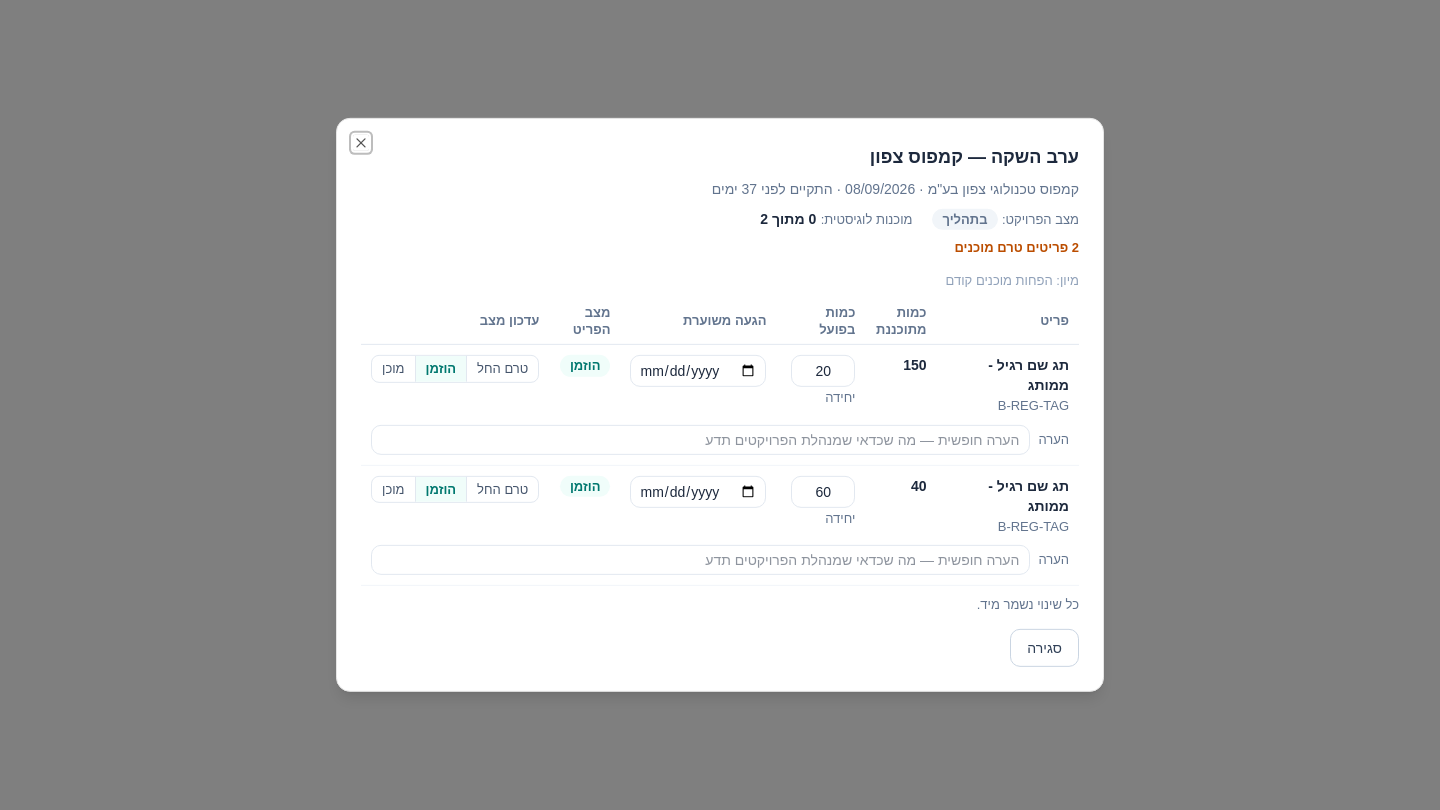
Scenario: ChecklistDialog — ③ שתי שורות של אותו מק"ט › כשל-כתיבה בשורה אחת מוצג תחתיה בלבד — ולא תחת אחותה בעלת אותו מק"ט
Replace the text in the field with test id "checklist-qty-B-REG-TAG-2" with "90": (823, 492) [791, 476, 855, 508]
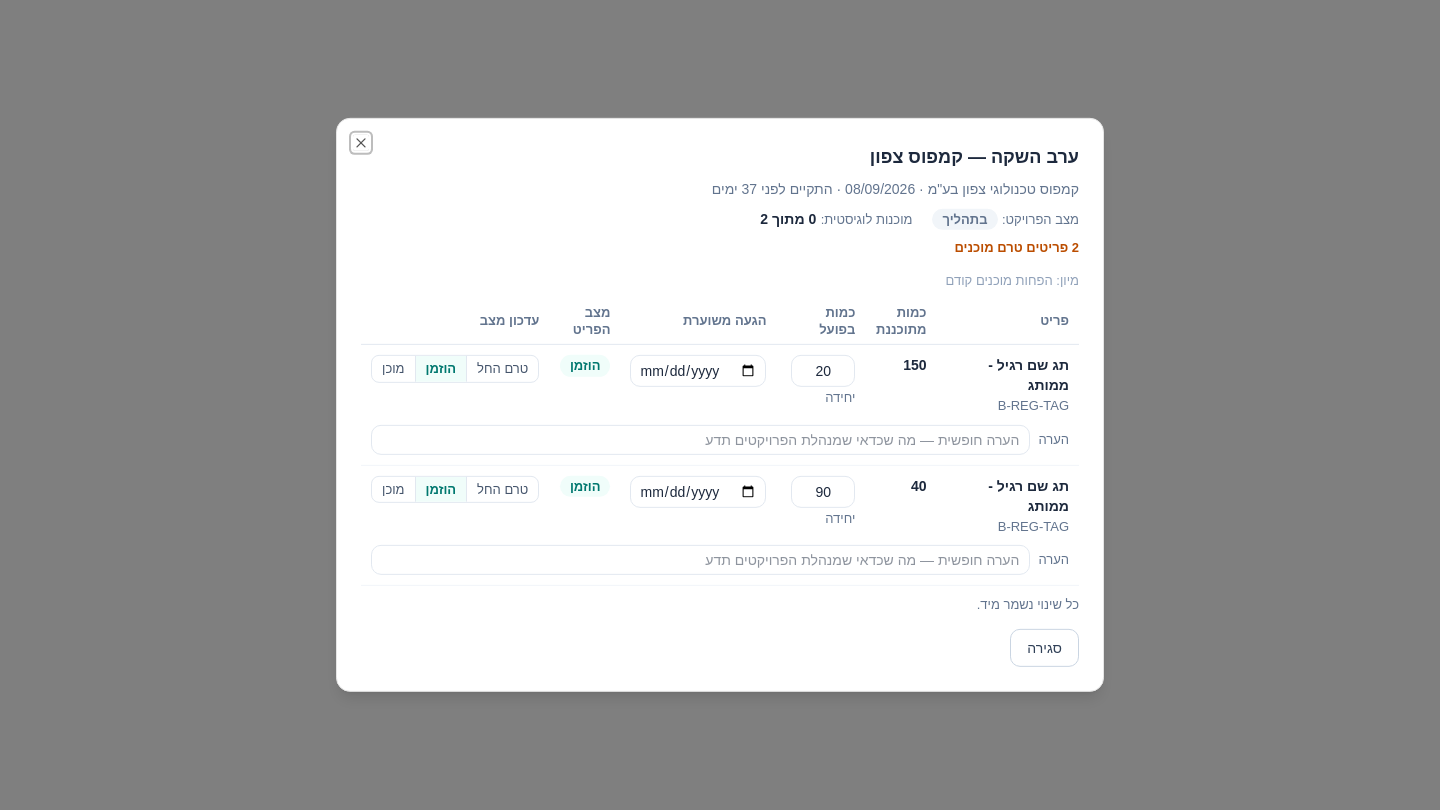
Leave the field with test id "checklist-qty-B-REG-TAG-2", box [791, 476, 855, 508]
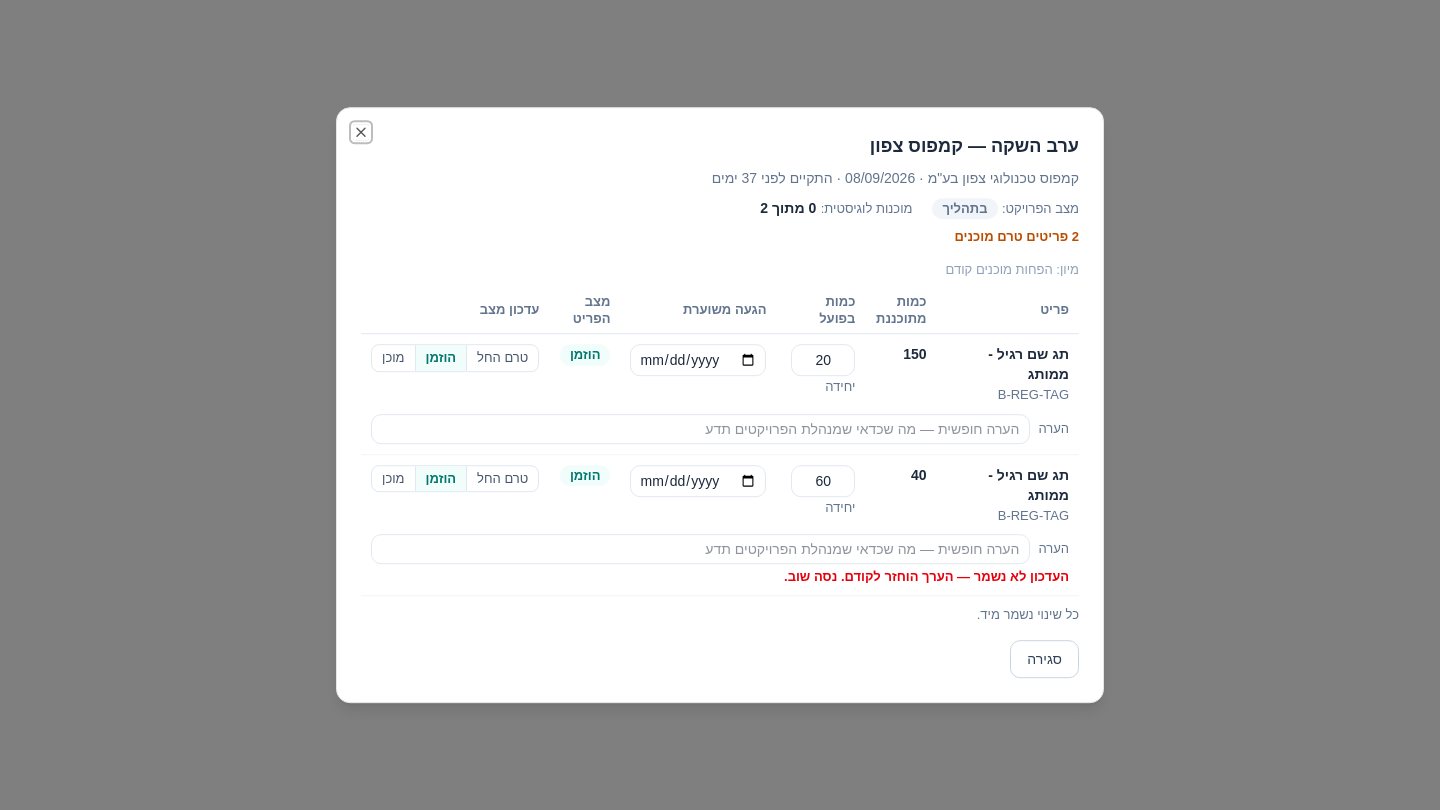
Expected: the message with test id "checklist-error-B-REG-TAG-2" reads "העדכון לא נשמר — הערך הוחזר לקודם. נסה שוב.", [784, 569, 1069, 584]
Expected: the field with test id "checklist-qty-B-REG-TAG-2" holds "60", [791, 465, 855, 497]
